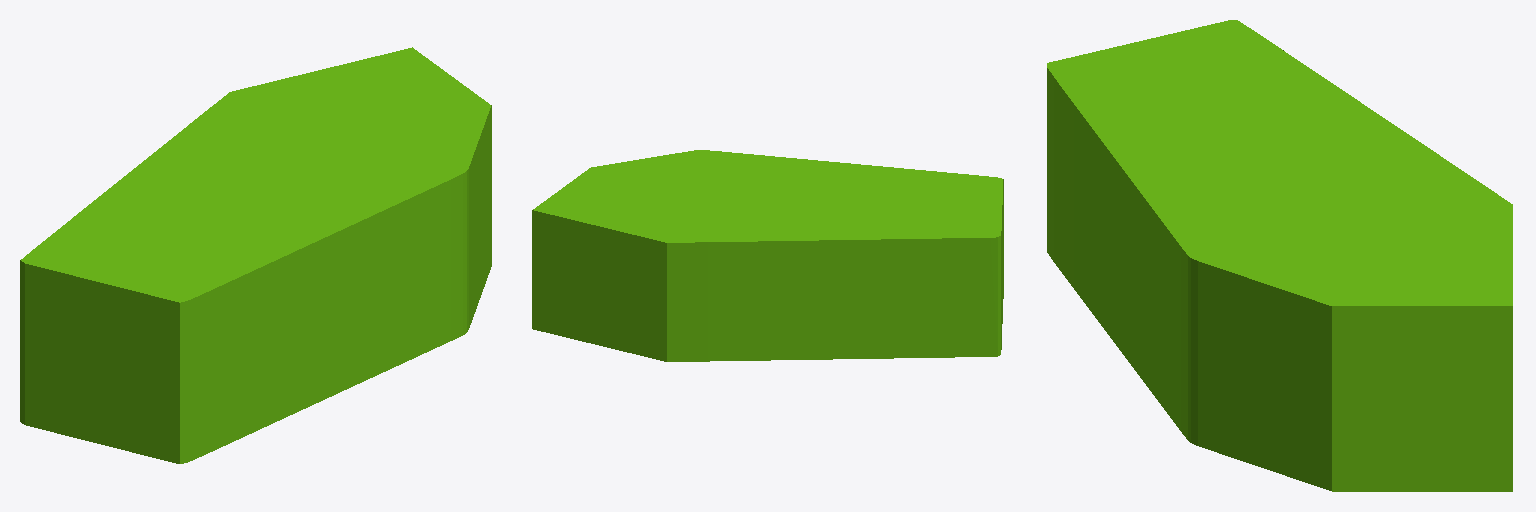
robot.urdf — convex_mesh:
<?xml version="1.0"?>
    <robot name="convex_mesh">
    <link name="base_link">
        <!-- Visual Representation -->
        <visual>
            <geometry>
                <mesh filename="polygon_4.obj" scale="1 1 1"/>
            </geometry>
            <material name="custom_color">
                <color rgba="0.46147936225293185 0.7805291762864555 0.11827442586893322 1.0"/>
            </material>
        </visual>

        <!-- Collision Geometry -->
        <collision>
            <geometry>
                <mesh filename="polygon_4.obj" scale="1 1 1"/>
            </geometry>
        </collision>

        <!-- Inertial Properties -->
        <inertial>
            <mass value="1.0"/>
            <origin xyz="0.0478666157246088 0.06320845393122654 0.015000000000000003"/>
            <inertia ixx="0.01" ixy="0.0" ixz="0.0"
                    iyy="0.01" iyz="0.0"
                    izz="0.01"/>
        </inertial>
    </link>
    </robot>

--- Render facts (derived) ---
Views: 3 orthographic renders of the robot side by side, from view 1: azimuth 30°, elevation 25°; view 2: azimuth 150°, elevation 25°; view 3: azimuth 270°, elevation 25°.
Model convex_mesh with 1 links and 0 joints (none), rooted at base_link, posed every joint at zero.
Visible links, largest first — view 1: base_link; view 2: base_link; view 3: base_link.
Boxes of the visible links, x1,y1,x2,y2 form: base_link: (20, 47, 491, 463); base_link: (532, 150, 1003, 361); base_link: (1047, 20, 1512, 491).
Size in the robot's own frame: 0.1017 by 0.07 by 0.0307 metres.
1 mesh visuals loaded from 1 distinct referenced files (1 OBJ).